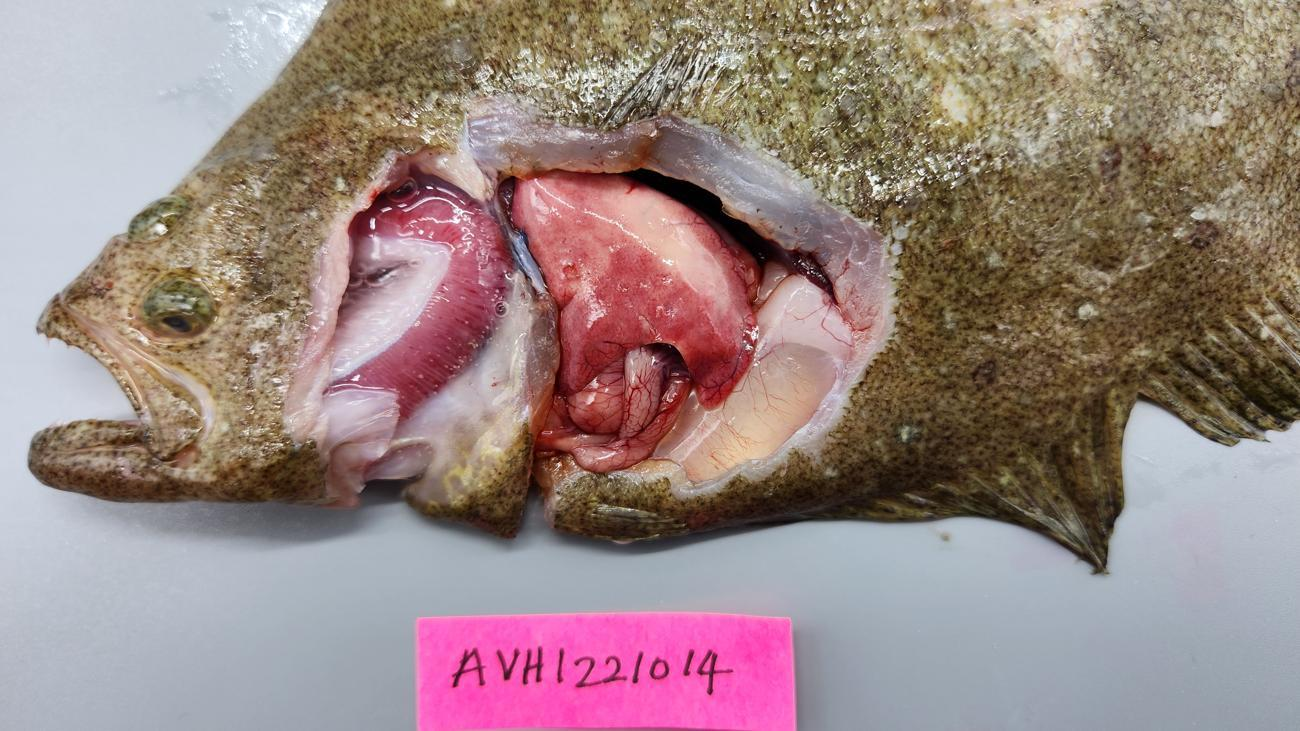VILII: (601, 173, 731, 320)
